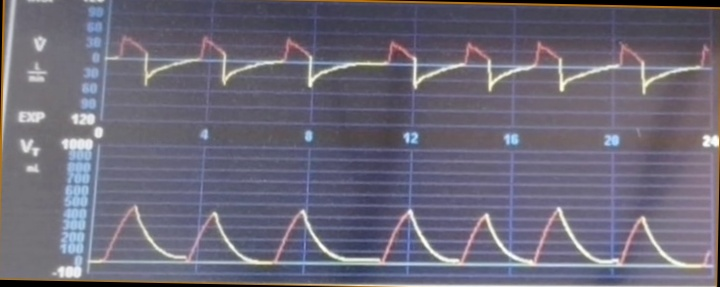Normal Flow: (110, 18, 710, 117)
Normal Volume: (97, 185, 714, 273)
